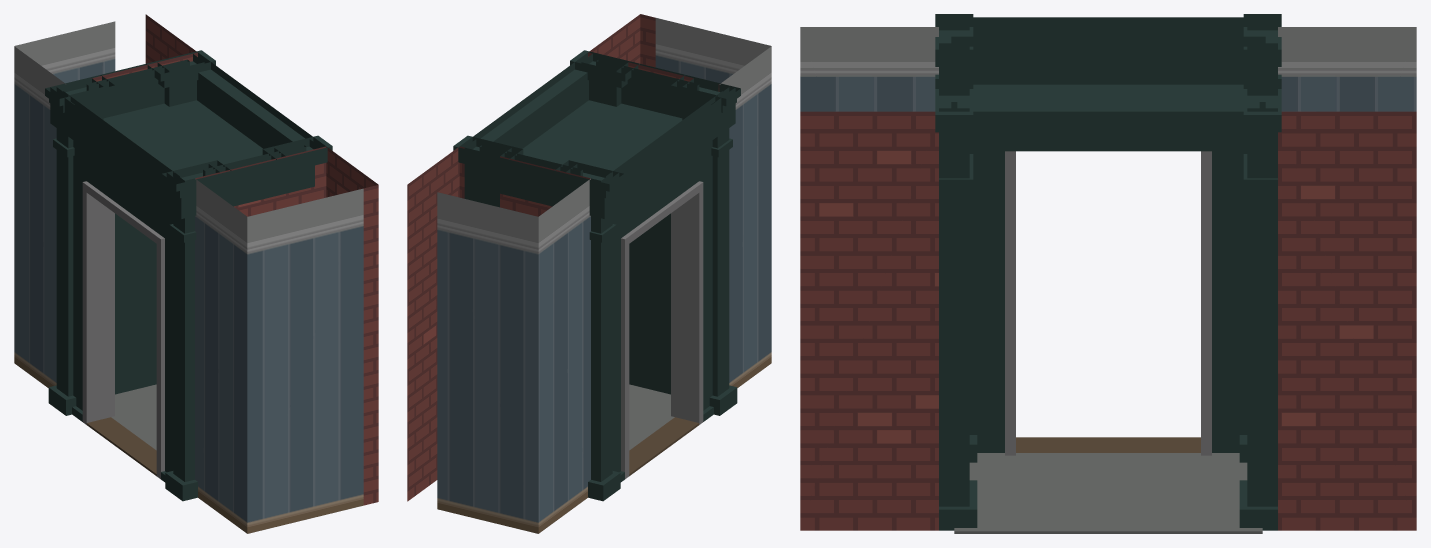
File: SM_shopFront_Entrance.glb
3 renders of one model, left to right at view 1: azimuth 30°, elevation 25°; view 2: azimuth 150°, elevation 25°; view 3: azimuth 270°, elevation 25°, orthographic. The views are drawn at different scales.
Parts seen in each view (by area): view 1: SM_shopFront_Entrance; view 2: SM_shopFront_Entrance; view 3: SM_shopFront_Entrance.
Boxes of the visible parts, box(x1,y1,x2,y2) form: SM_shopFront_Entrance: box(14, 14, 378, 533); SM_shopFront_Entrance: box(407, 14, 771, 533); SM_shopFront_Entrance: box(800, 14, 1416, 533).
Bounding box in the file's own units: 1.55 × 3 × 4.
Materials: 4 (3 with a texture image).
